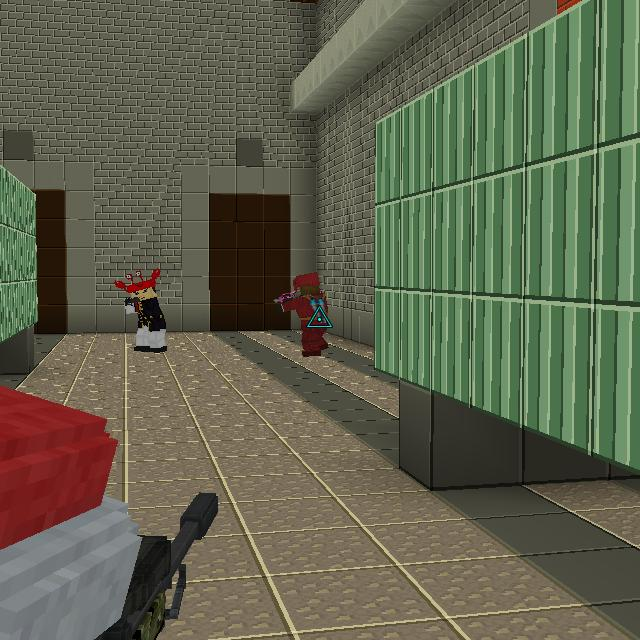enemy: (114, 267, 168, 354), (279, 271, 332, 357)
